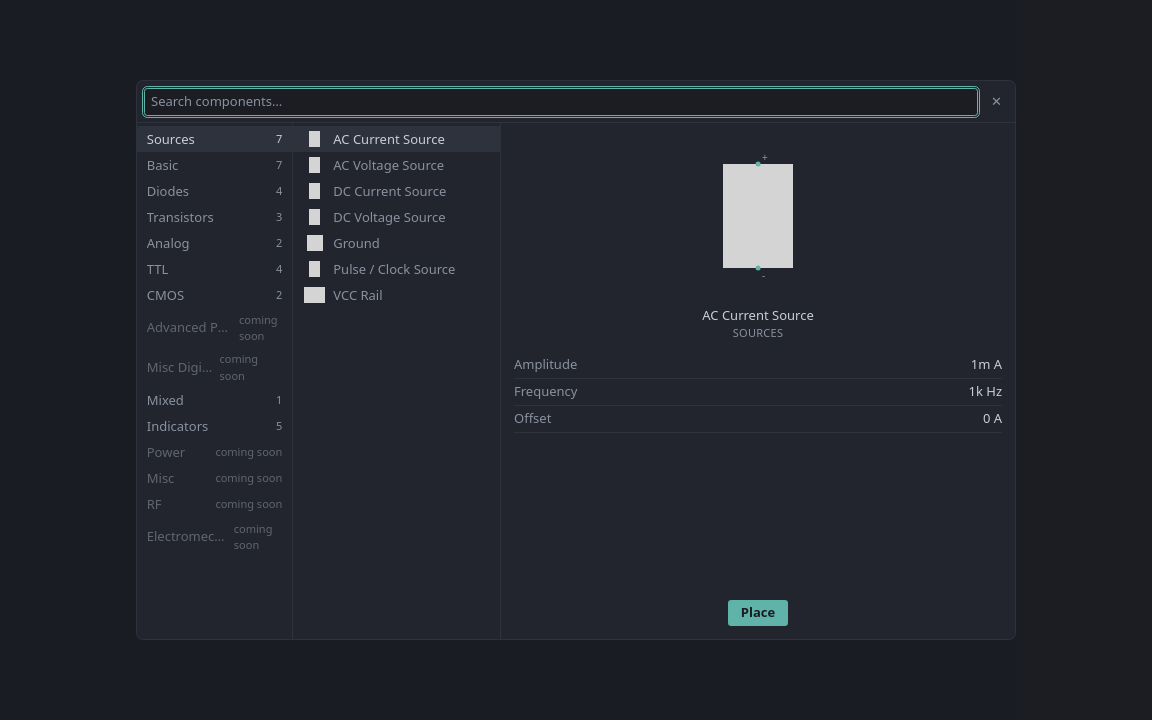
Test: ComponentBrowser › shows choice defaults by their label
Click the button with aria-label "group Basic": (214, 165) [137, 152, 292, 178]
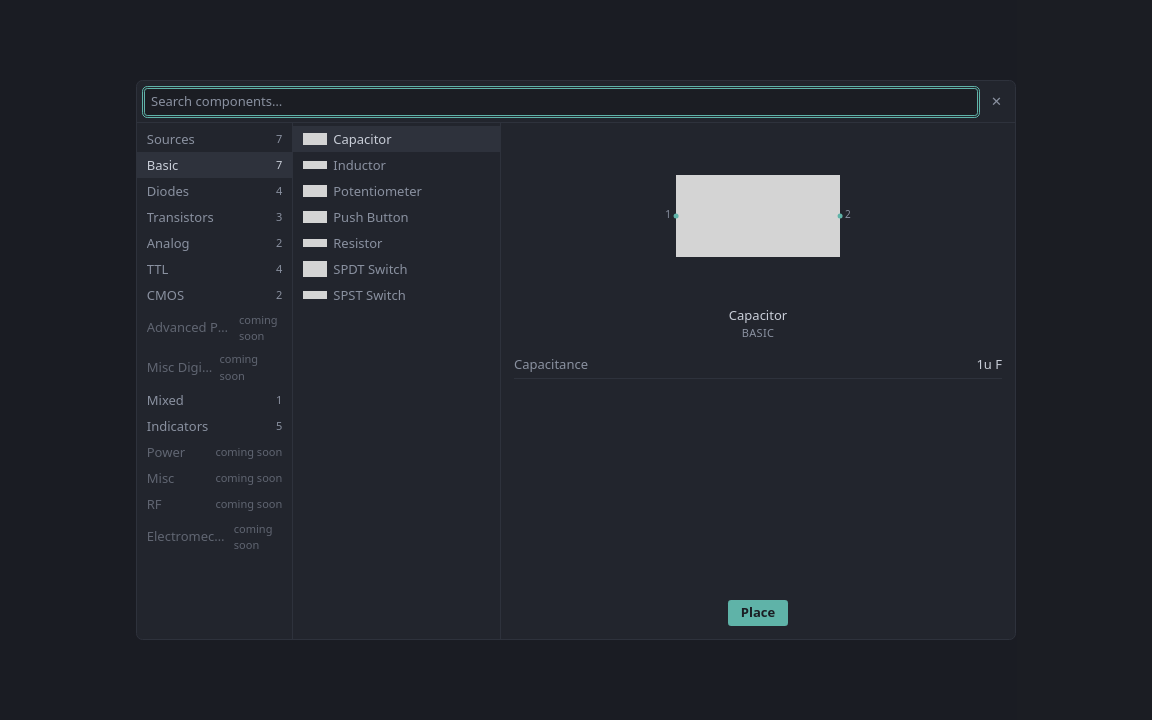
Click the option "SPST Switch": (354, 294) [303, 286, 406, 304]
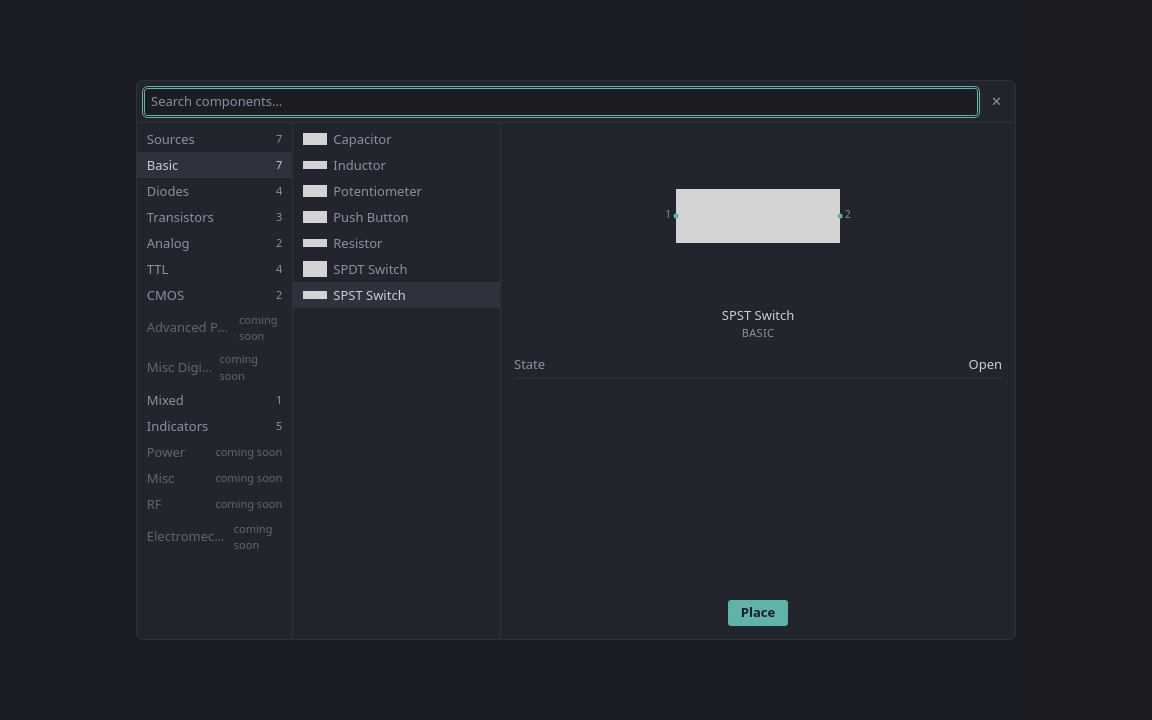
Result: the text "Open" is shown at [968, 355, 1002, 374]
